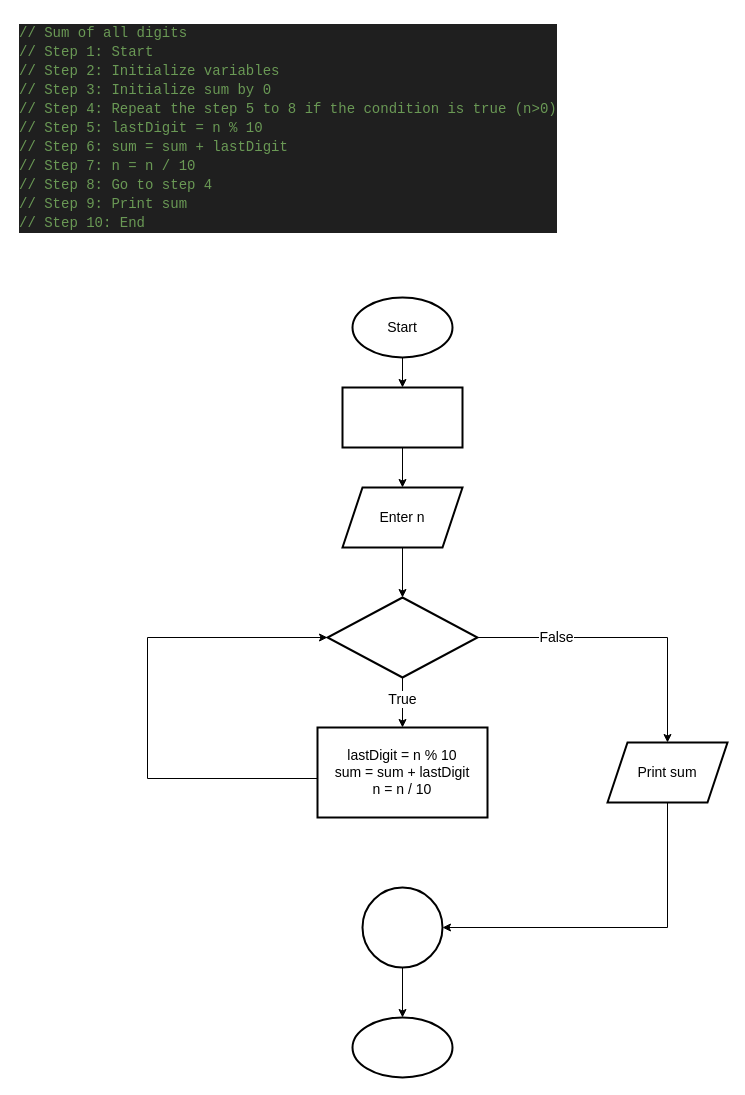
Some shapes in this 745 by 1095 pixel diagram are drawn without their labels. Here are the shapes that lost their labels. From the top down, the centre of each, then its label:
point 402,417: int n, lastDigit, sum = 0
point 402,637: n > 0
